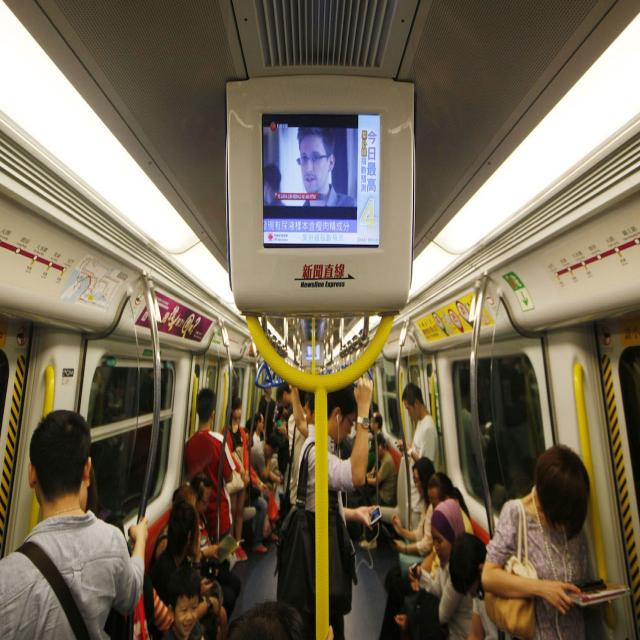body: (0, 404, 154, 639), (481, 436, 627, 639), (294, 374, 375, 640), (267, 114, 379, 241), (407, 497, 474, 640), (401, 474, 477, 600), (448, 529, 525, 639), (189, 470, 243, 625), (184, 388, 236, 546), (394, 382, 440, 528), (152, 484, 220, 576), (391, 456, 436, 582), (221, 393, 251, 562), (152, 489, 203, 570), (284, 382, 316, 508), (242, 427, 272, 555), (224, 597, 310, 639), (159, 568, 209, 640), (248, 433, 282, 499), (366, 435, 394, 509), (128, 569, 156, 639), (258, 387, 276, 442), (370, 401, 389, 428), (254, 411, 266, 440)
